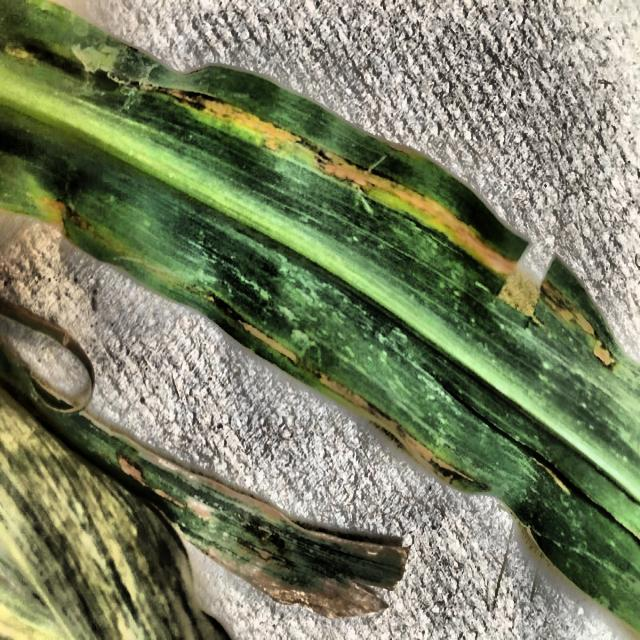blight: (0, 0, 639, 637)
